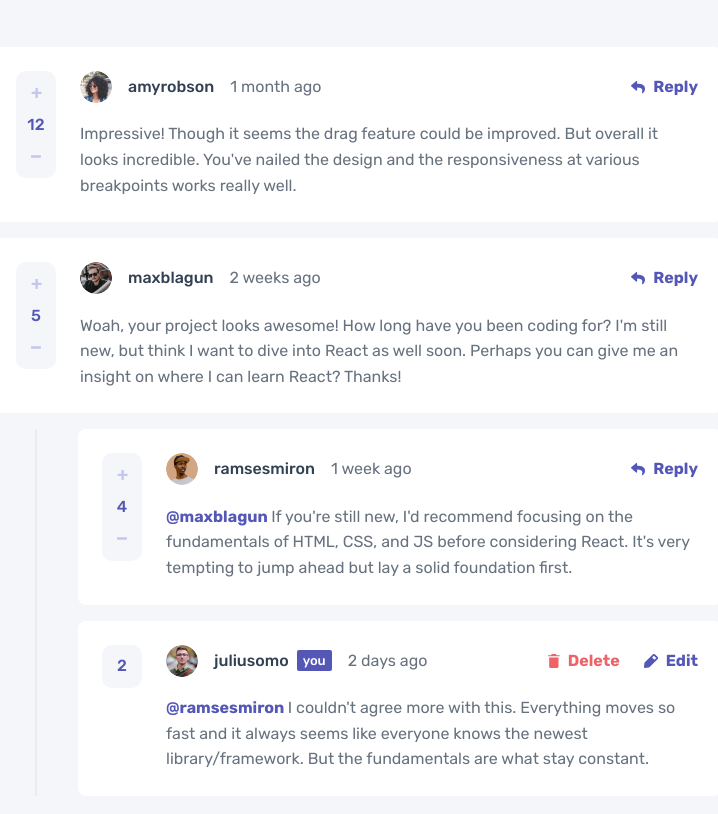
Scenario: App › includes mention in replies and doesn't allow editing it out
Click the button "Reply" in the row of "2 weeks ago": (665, 278) [631,262,698,294]
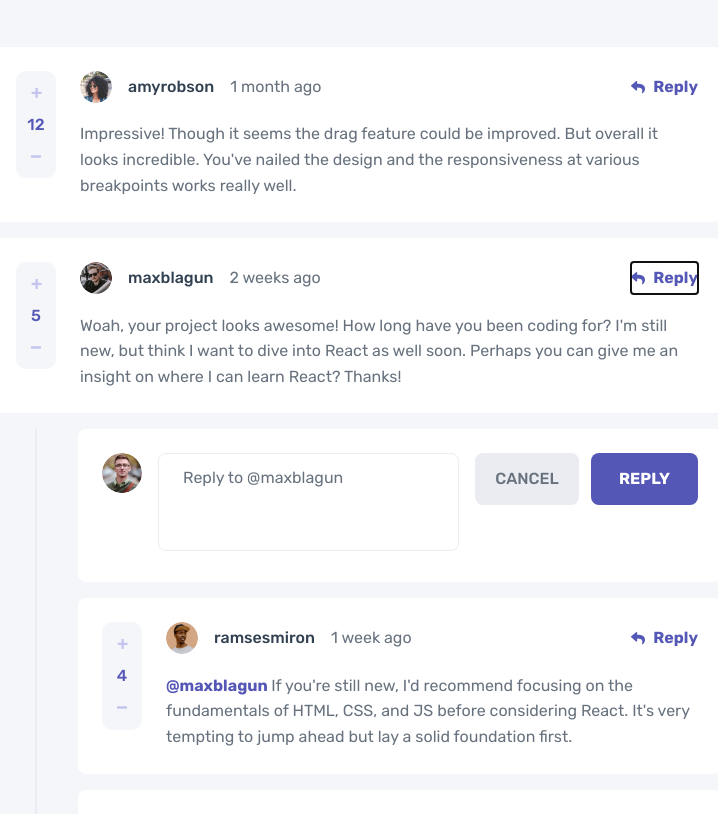
In the text box labelled "Reply to @maxblagun": (308, 502) [158,453,459,551], type "This is a reply"
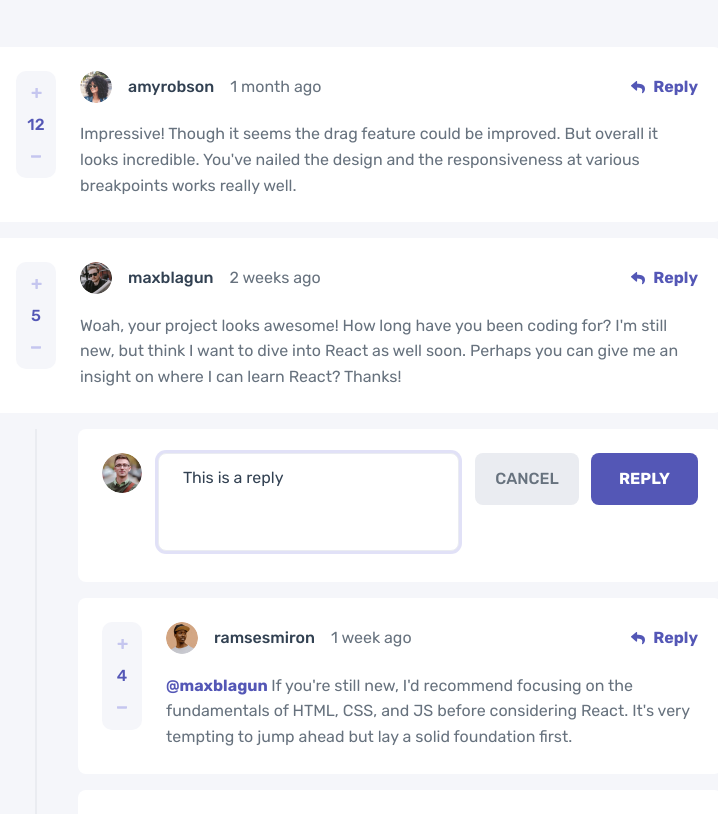
Click the 3rd button "Reply": (644, 479) [591,453,698,505]
(page scrolled)
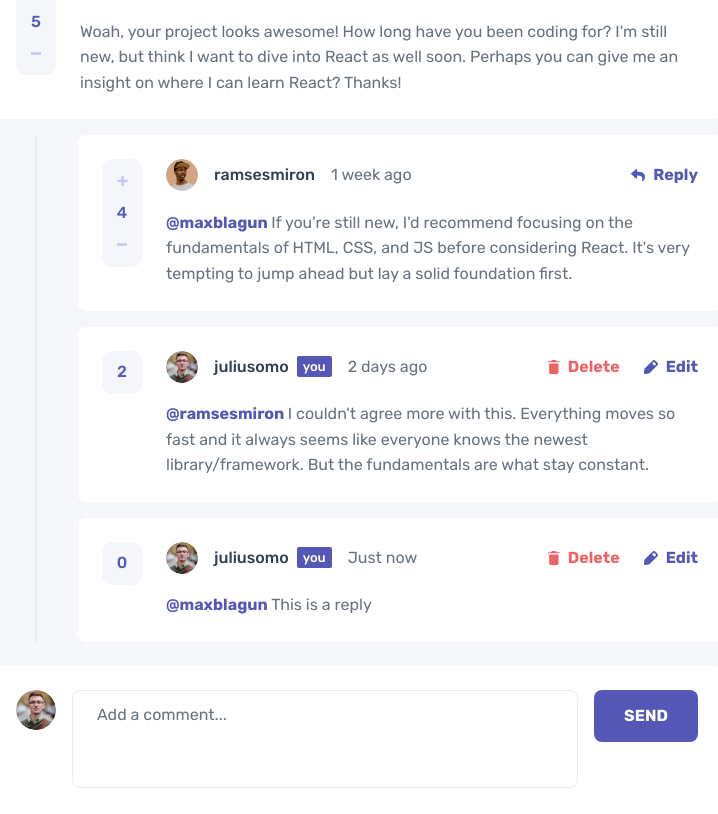
Expected: the text "This is a reply" is shown, [271,595,372,614]
Expected: the text "@maxblagun" next to "This is a reply" is shown, [166,595,271,614]
Click the button "Edit" in the row of "Just now": (671, 558) [644,542,698,574]
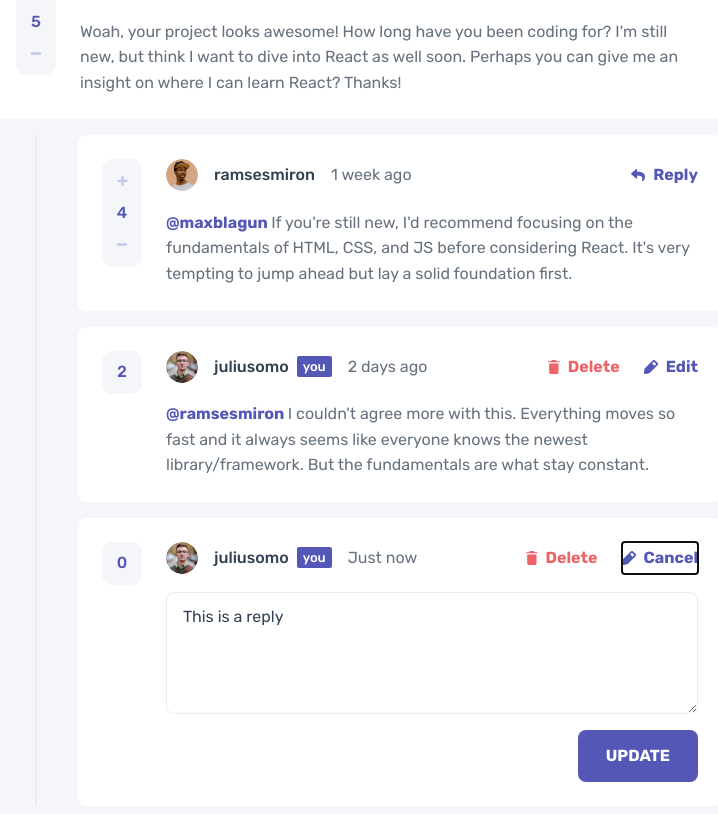
Replace the text in the text box named "edit comment by" with "Trying to edit the mention out of this reply": (432, 653) [166,592,698,714]
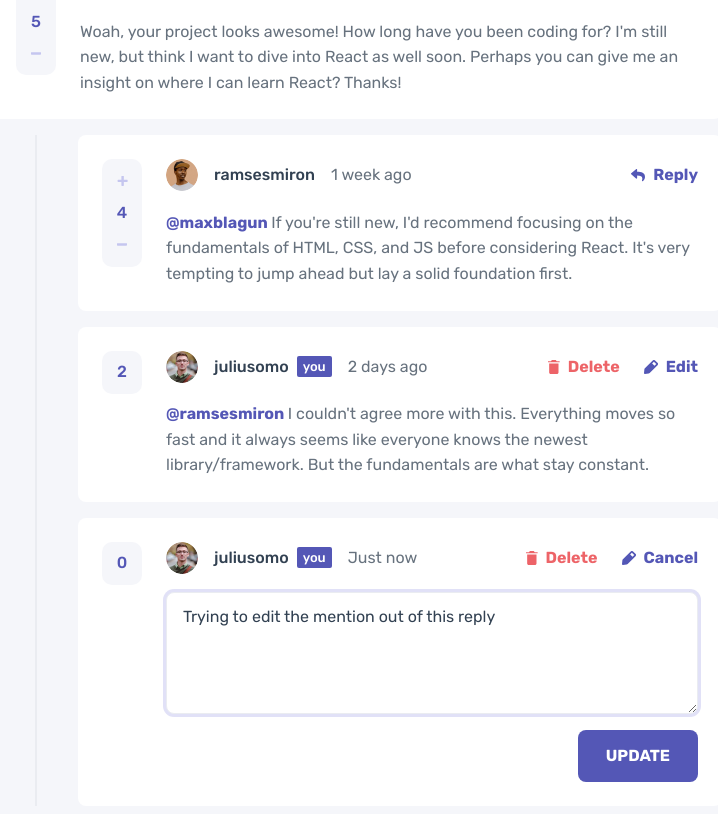
Click the button "Update": (638, 756) [578,730,698,782]
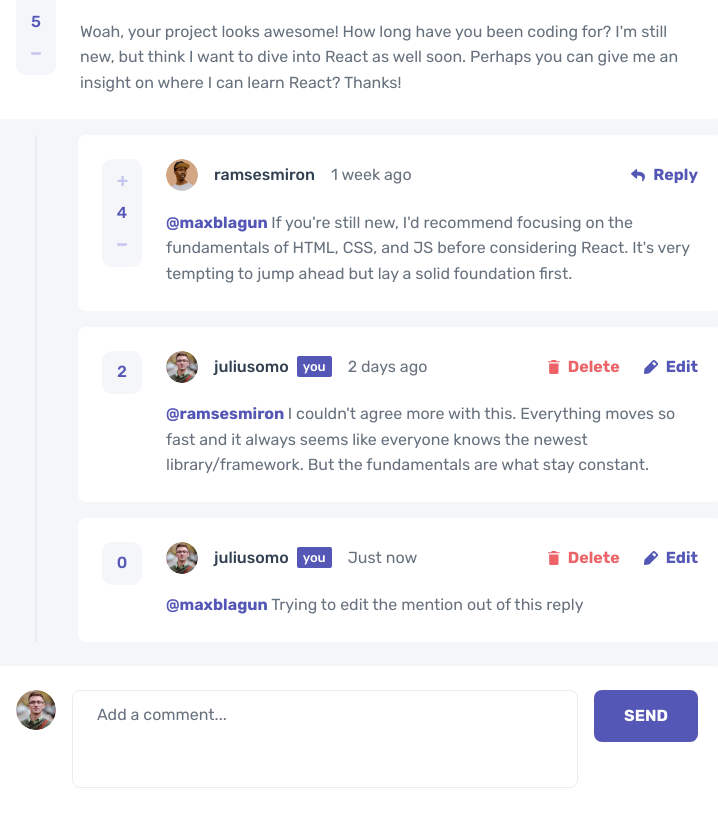
Expected: the text "@maxblagun" below "Just now" is shown, [166,595,271,614]
Expected: the text "Trying to edit the mention out of this reply" is shown, [271,595,583,614]
